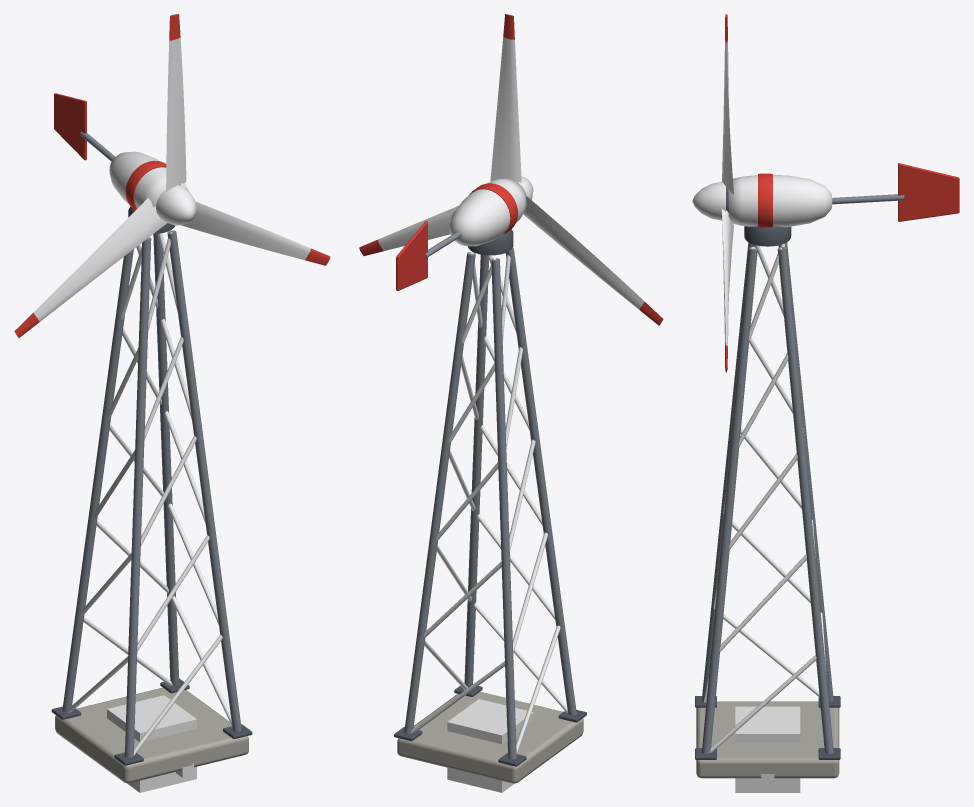
File: WindSmall.fbx
The picture shows the model from 3 angles, left to right: view 1: azimuth 30°, elevation 25°; view 2: azimuth 150°, elevation 25°; view 3: azimuth 270°, elevation 25°; orthographic projection. The views are drawn at different scales.
Visible parts, largest first — view 1: Body__Steel, Head/Rotor__White, Body__White, Body__Concrete, Origin__Pivot, Head__Red, Head__White, Body__MetalDark, Head/Rotor__Red; view 2: Body__Steel, Body__White, Body__Concrete, Head/Rotor__White, Head__White, Origin__Pivot, Head__Red, Body__MetalDark, Head/Rotor__Red, Head__MetalDark; view 3: Body__Steel, Body__Concrete, Body__White, Head__White, Head__Red, Origin__Pivot, Head/Rotor__White, Head__MetalDark, Body__MetalDark, Head__Steel.
Part boxes in pixels (x1,y1,x2,y2): Body__Steel: [62, 230, 241, 757]; Head/Rotor__White: [33, 38, 310, 321]; Body__White: [67, 231, 232, 755]; Body__Concrete: [55, 687, 248, 783]; Origin__Pivot: [107, 695, 196, 792]; Head__Red: [54, 93, 166, 210]; Head__White: [109, 151, 189, 208]; Body__MetalDark: [51, 678, 252, 765]; Head/Rotor__Red: [14, 14, 330, 337]; Body__Steel: [404, 248, 576, 759]; Body__White: [410, 252, 567, 754]; Body__Concrete: [397, 691, 583, 783]; Head/Rotor__White: [378, 37, 644, 309]; Head__White: [449, 178, 526, 246]; Origin__Pivot: [447, 699, 533, 792]; Head__Red: [396, 183, 518, 290]; Body__MetalDark: [394, 685, 586, 766]; Head/Rotor__Red: [359, 14, 663, 325]; Head__MetalDark: [467, 229, 513, 255]; Body__Steel: [701, 242, 833, 753]; Body__Concrete: [696, 701, 839, 778]; Body__White: [704, 243, 826, 752]; Head__White: [728, 175, 832, 227]; Head__Red: [758, 163, 959, 227]; Origin__Pivot: [735, 706, 800, 792]; Head/Rotor__White: [692, 40, 733, 346]; Head__MetalDark: [744, 226, 791, 246]; Body__MetalDark: [695, 696, 840, 759]; Head__Steel: [832, 194, 904, 204].
Bounding box in the file's own units: 5.54 × 12.95 × 4.11.
